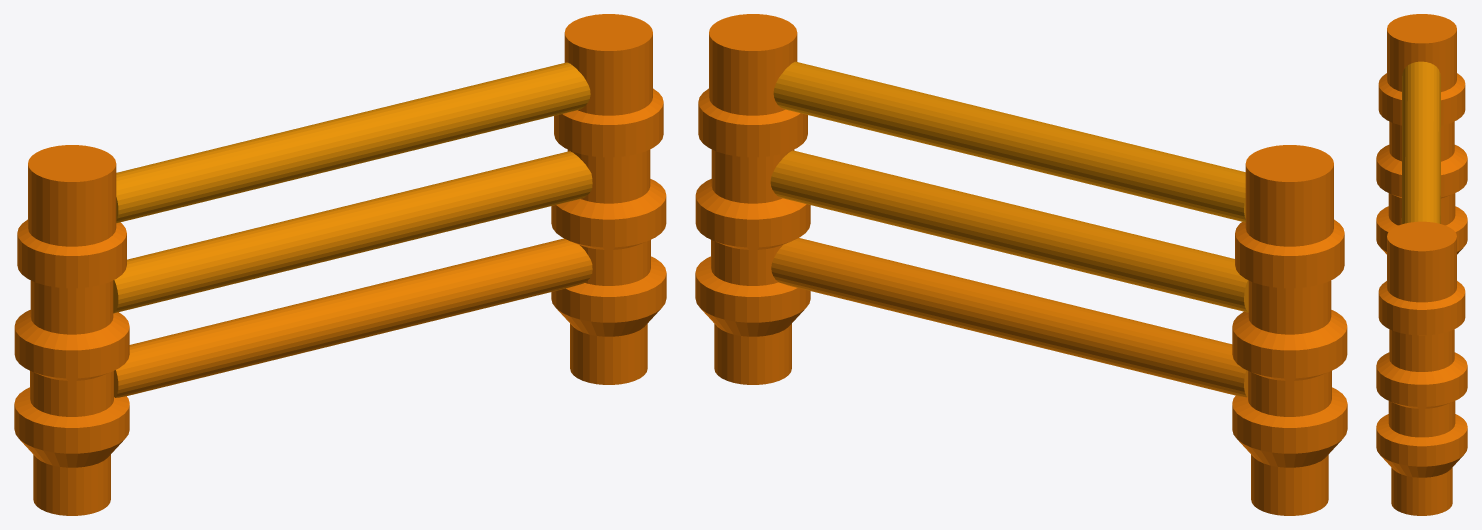
Rendered from Rails_1.fbx.
3 views of the same model, side by side, from view 1: azimuth 30°, elevation 25°; view 2: azimuth 150°, elevation 25°; view 3: azimuth 270°, elevation 25° (orthographic). The views are drawn at different scales.
Parts seen in each view (by area): view 1: Cylinder.004, Cylinder, Cylinder.002, Cylinder.001, Cylinder.003; view 2: Cylinder.004, Cylinder, Cylinder.002, Cylinder.001, Cylinder.003; view 3: Cylinder, Cylinder.004, Cylinder.001.
Boxes of the visible parts, x1,y1,x2,y2 form: Cylinder.004: [14, 145, 129, 515]; Cylinder: [551, 14, 666, 384]; Cylinder.002: [113, 151, 592, 313]; Cylinder.001: [116, 62, 590, 223]; Cylinder.003: [114, 238, 592, 397]; Cylinder.004: [1232, 145, 1347, 515]; Cylinder: [695, 14, 810, 384]; Cylinder.002: [770, 150, 1248, 312]; Cylinder.001: [773, 61, 1245, 222]; Cylinder.003: [771, 238, 1247, 397]; Cylinder: [1376, 221, 1467, 515]; Cylinder.004: [1376, 14, 1467, 254]; Cylinder.001: [1401, 61, 1440, 224].
Size of the model in its own units: 1771 by 894 by 278.
